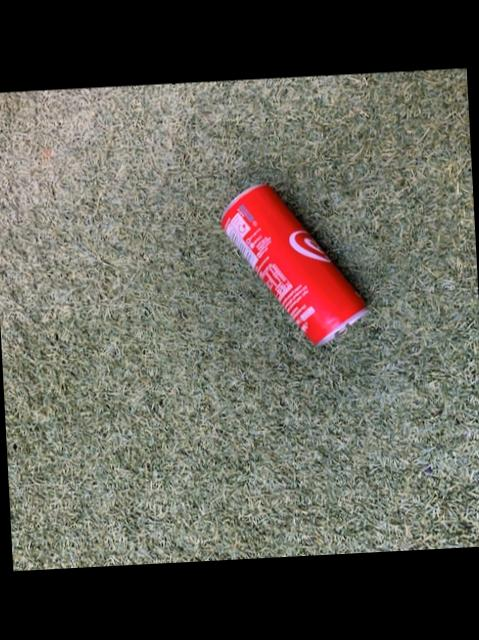metal: (218, 183, 362, 345)
